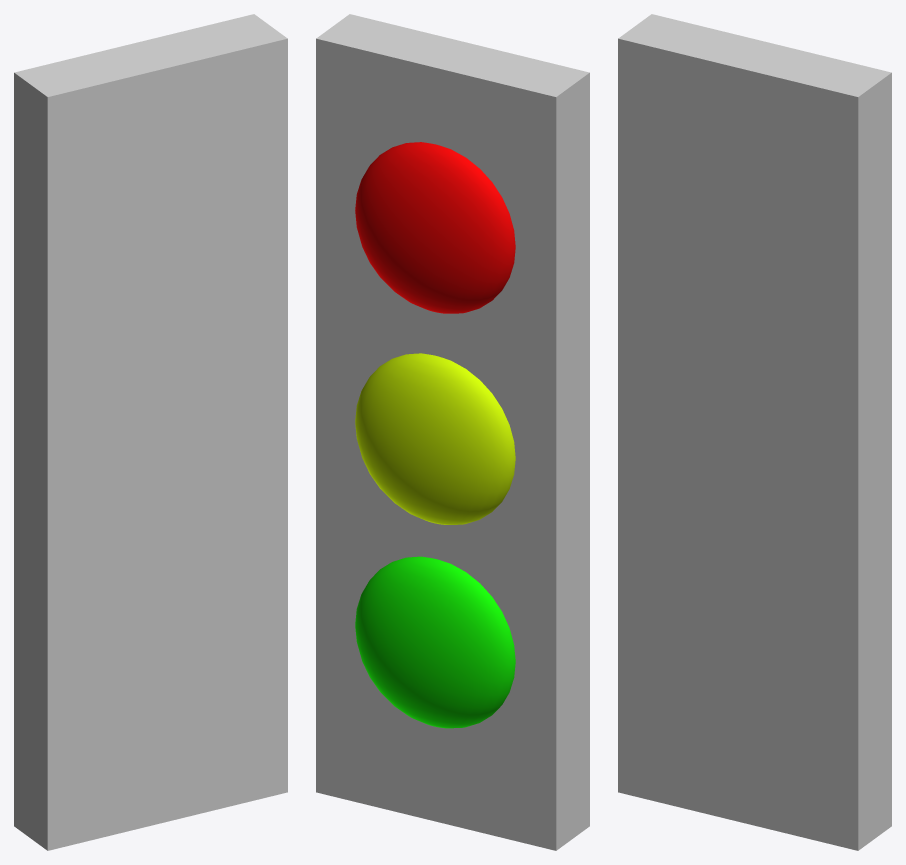
File: traffic-signal.glb
3 renders of one model, left to right at view 1: azimuth 30°, elevation 25°; view 2: azimuth 150°, elevation 25°; view 3: azimuth 330°, elevation 25°, orthographic.
Visible parts, largest first — view 1: Box; view 2: Box, Red (×3); view 3: Box.
Part boxes in pixels (x1=…): Box: x1=14, y1=14, x2=287, y2=850; Box: x1=316, y1=14, x2=589, y2=850; Red (×3): x1=355, y1=142, x2=515, y2=728; Box: x1=618, y1=14, x2=891, y2=850.
Bounding box in the file's own units: 1.5 × 4.5 × 0.5523.
